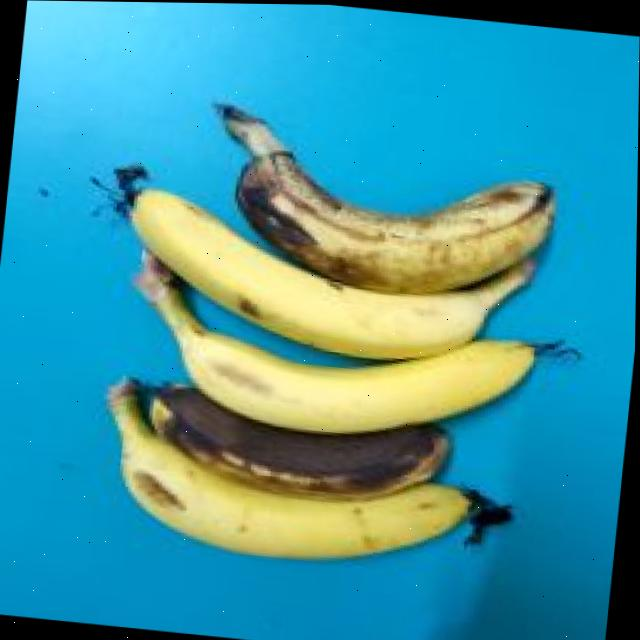Wet: (194, 95, 574, 305), (130, 376, 459, 506)
